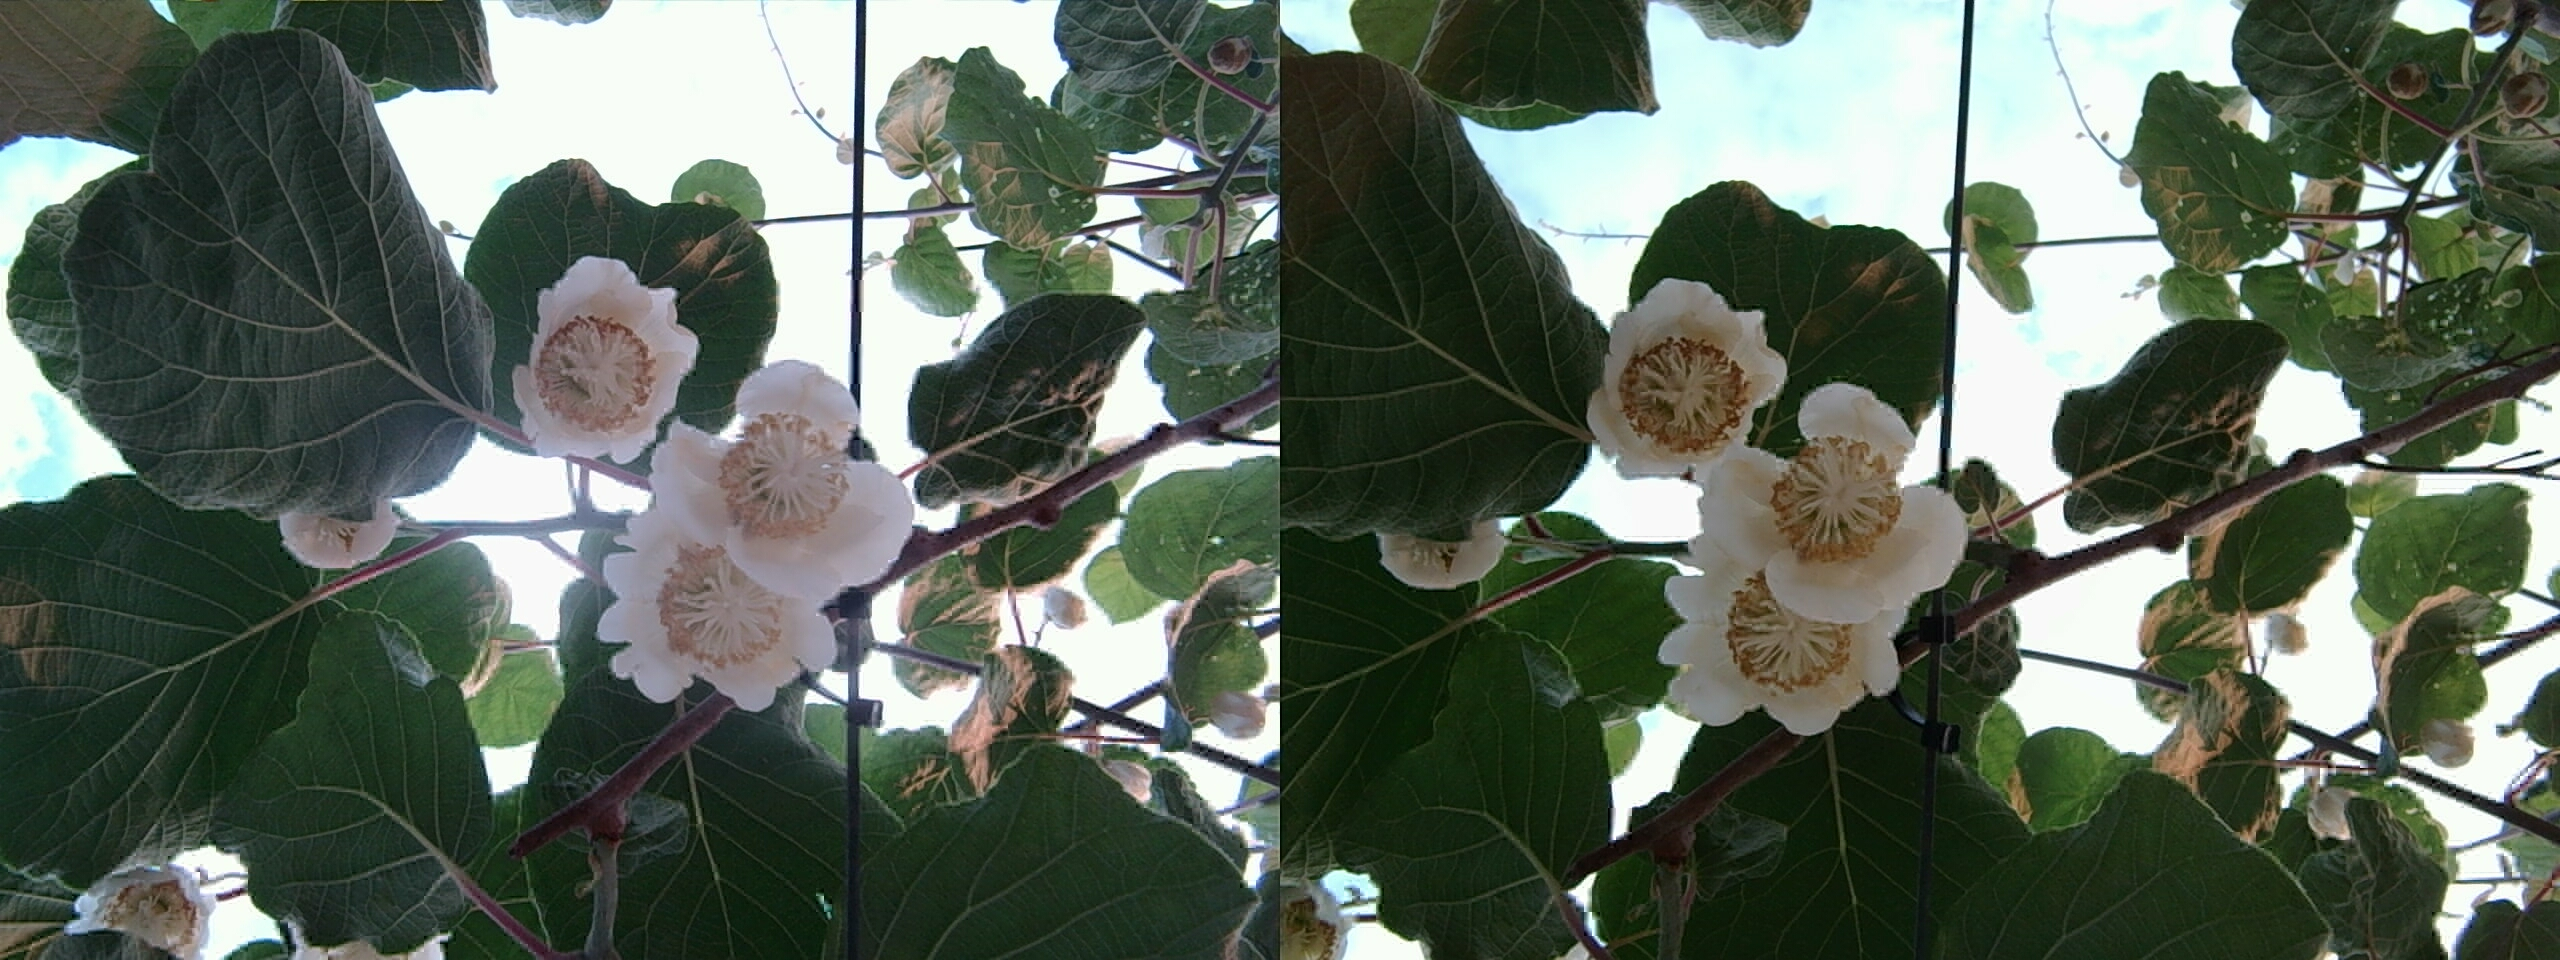flower: (1695, 384, 1984, 616), (643, 358, 914, 604), (1647, 565, 1954, 741), (588, 518, 864, 699), (508, 253, 697, 470), (1577, 274, 1775, 478)
